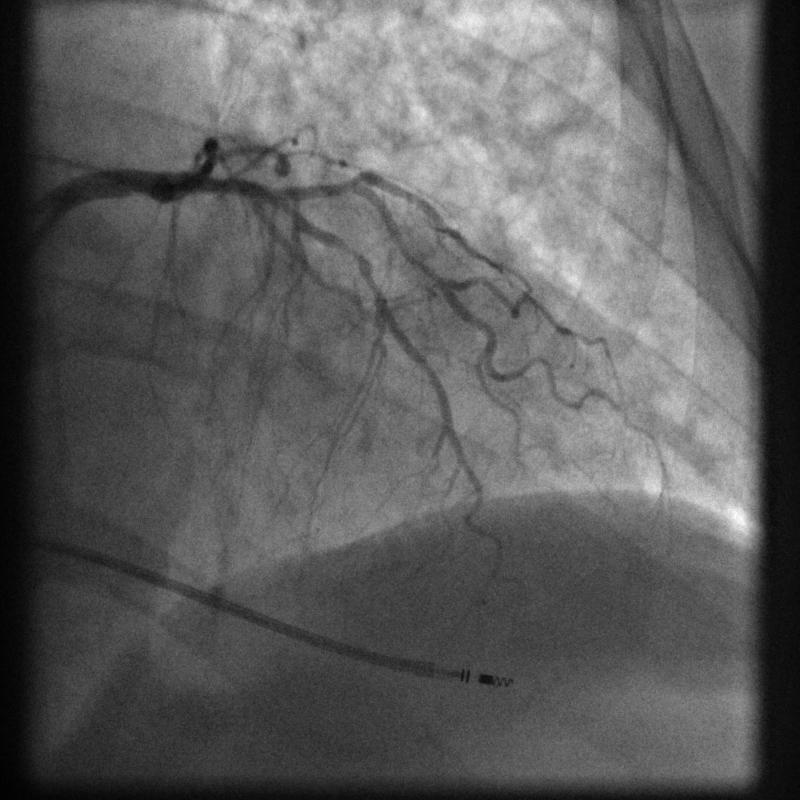Stenosis: (333, 236, 372, 277)
